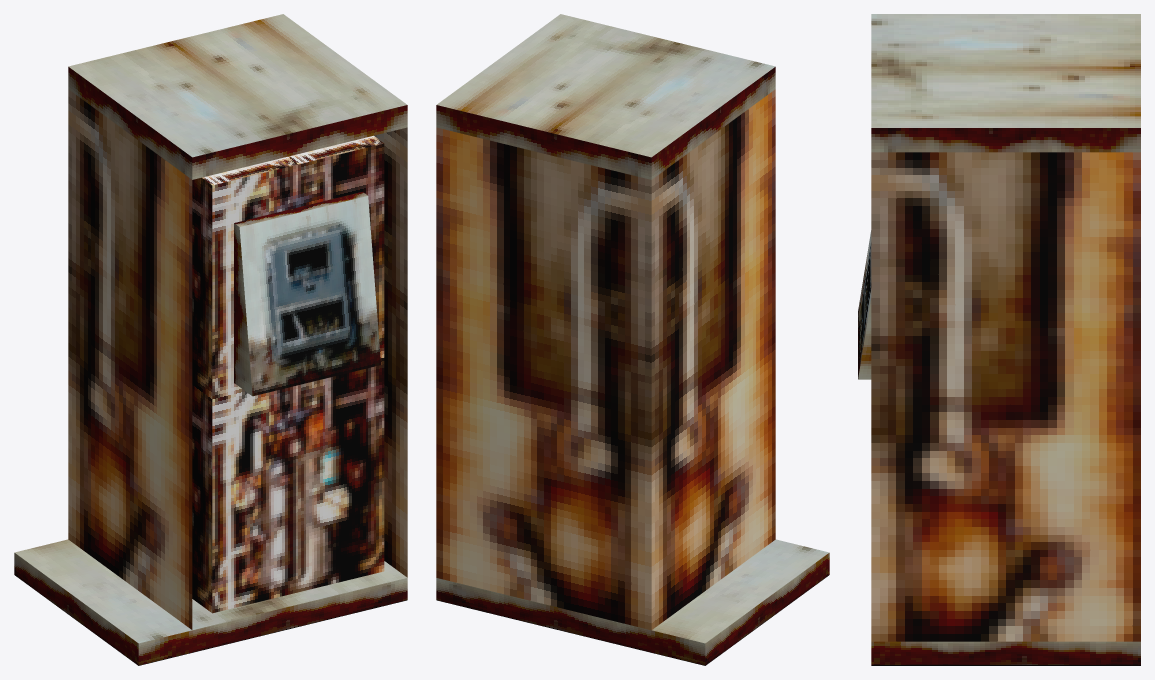
File: production_machine.glb
The picture shows the model from 3 angles, left to right: view 1: azimuth 30°, elevation 25°; view 2: azimuth 150°, elevation 25°; view 3: azimuth 270°, elevation 25°; orthographic projection. The views are drawn at different scales.
Visible parts, largest first — view 1: production_machine; view 2: production_machine; view 3: production_machine.
Part boxes in pixels (bbox=[...]): production_machine: bbox=[14, 14, 407, 665]; production_machine: bbox=[436, 14, 829, 665]; production_machine: bbox=[858, 14, 1140, 665].
Bounding box in the file's own units: 1.25 × 2.2 × 1.05.
4 materials, 4 textured.
